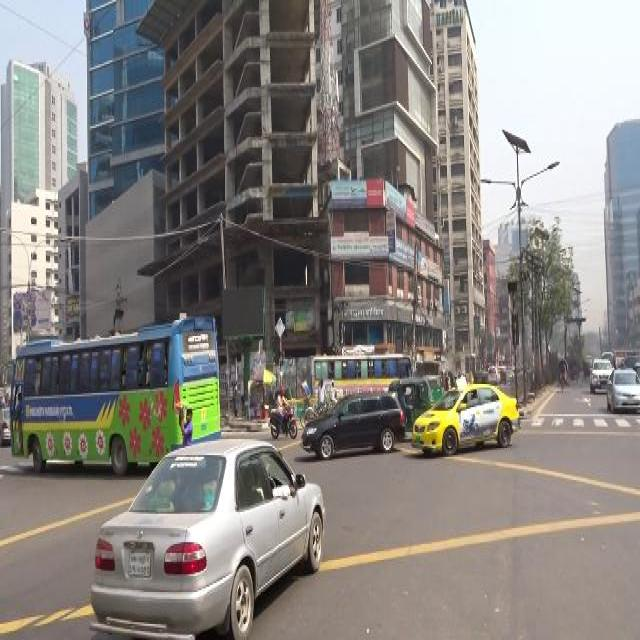10: (267, 385, 297, 440)
13: (298, 378, 334, 429), (556, 356, 570, 391)
15: (588, 356, 614, 391), (486, 364, 499, 382)
16: (410, 375, 520, 457)
17: (386, 376, 434, 435), (424, 373, 444, 402), (473, 366, 487, 381)
5: (78, 438, 328, 636), (300, 388, 406, 462), (605, 367, 639, 415)
Truck: (8, 317, 225, 479), (308, 351, 414, 406)
